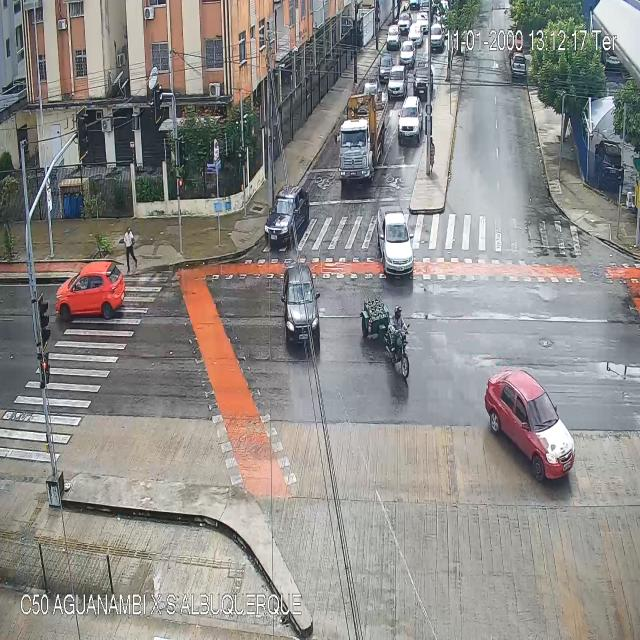Car: (55, 262, 124, 321), (281, 267, 321, 352), (376, 202, 416, 276), (265, 185, 309, 248), (399, 96, 424, 147), (413, 65, 436, 97), (387, 64, 407, 99), (378, 53, 393, 84), (428, 22, 444, 50), (400, 38, 415, 64), (512, 53, 526, 80), (386, 23, 397, 52), (407, 22, 421, 44), (398, 10, 411, 31), (417, 11, 429, 33)
Motorcycle: (487, 370, 575, 488), (386, 304, 411, 381)
Truck: (334, 89, 390, 186)
